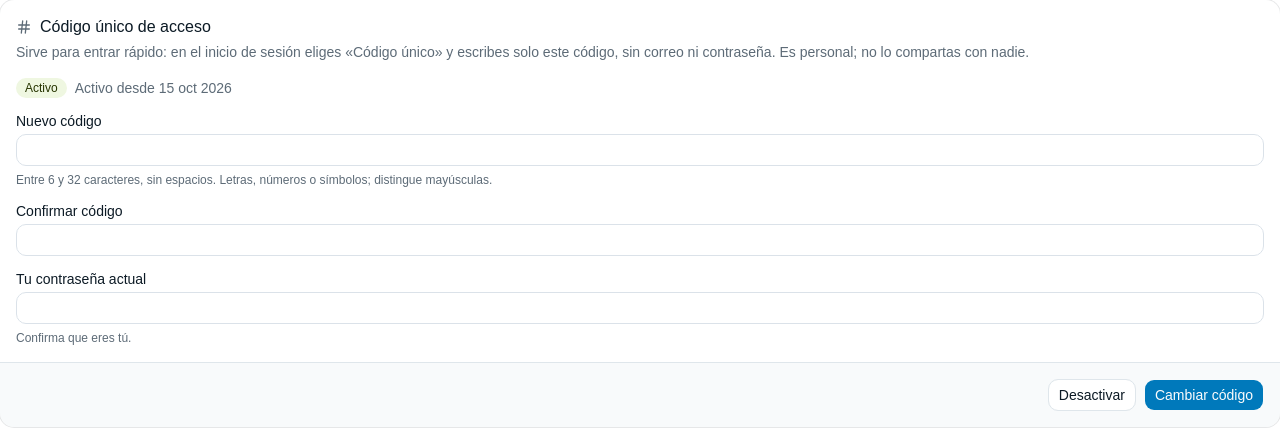
Test: CodigoAccesoForm › 422 CONTRASENA_INCORRECTA: error en la contraseña y la sesión sigue abierta
Expected: the icon "Activo" is shown, [16,78,67,98]
Type "NuevoCodigo" into the password field labelled "Nuevo código" at (640,150), box [16,134,1264,166]
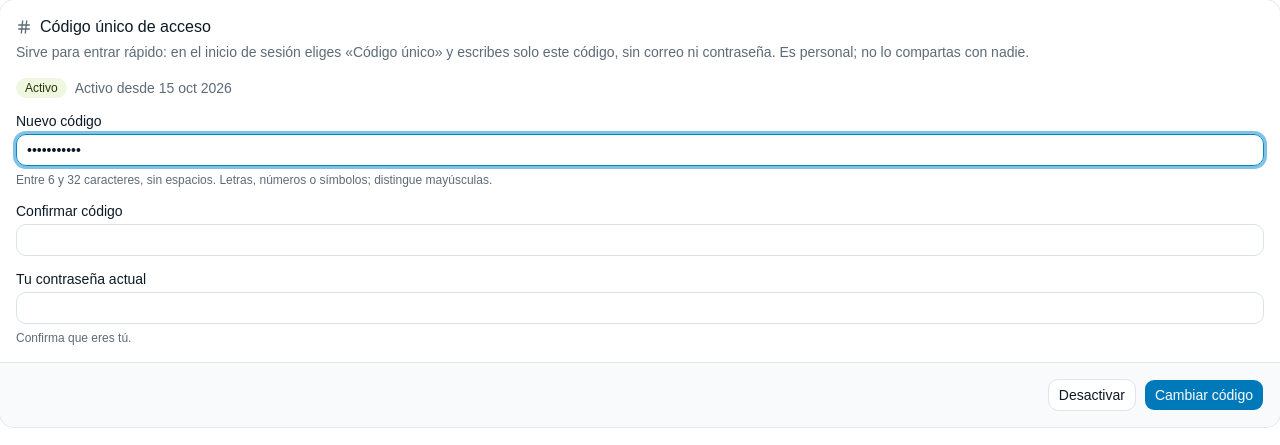
Type "NuevoCodigo" into the password field labelled "Confirmar código" at (640,240), box [16,224,1264,256]
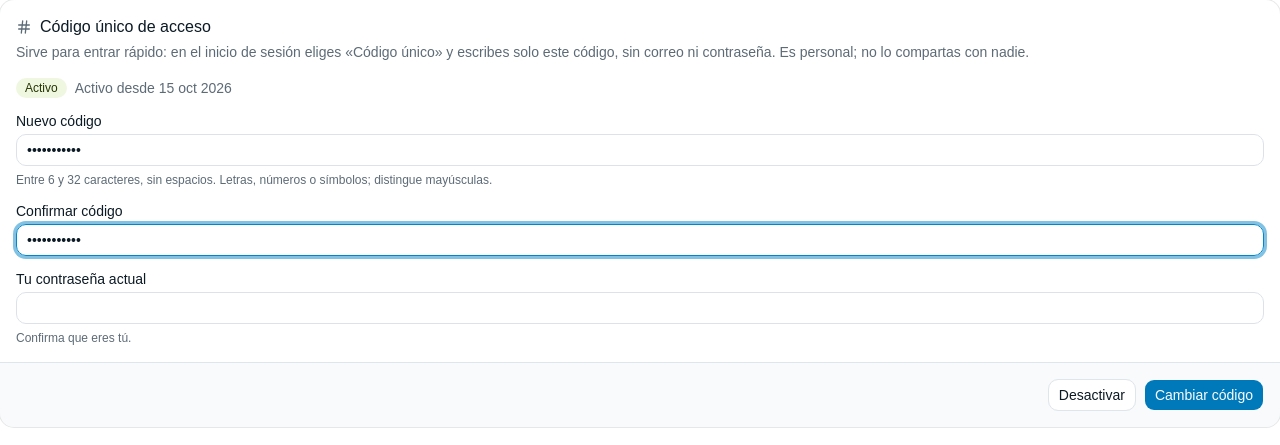
Type "equivocada" into the password field labelled "Tu contraseña actual" at (640,308), box [16,292,1264,324]
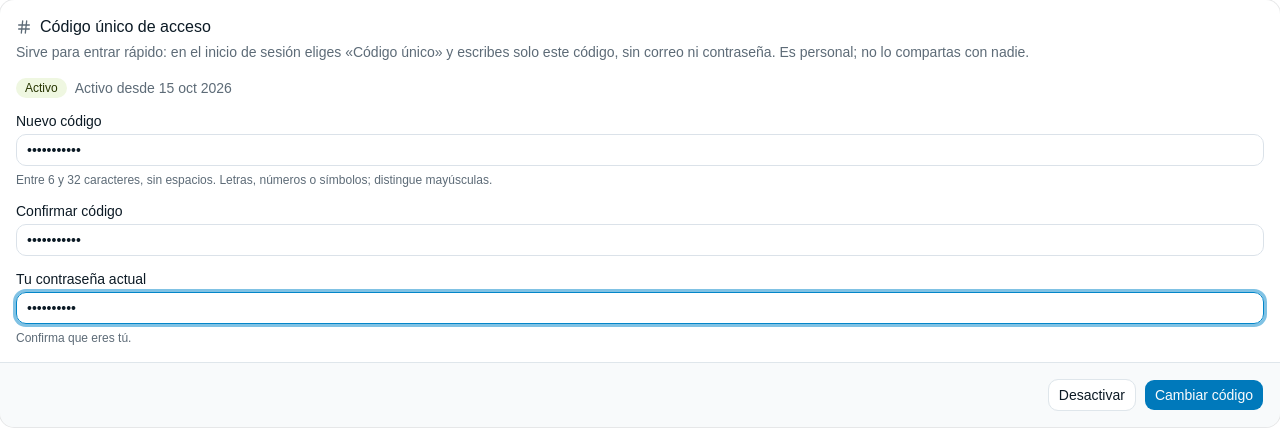
Click the button "Cambiar código" at (1204,395), box [1144,379,1264,411]
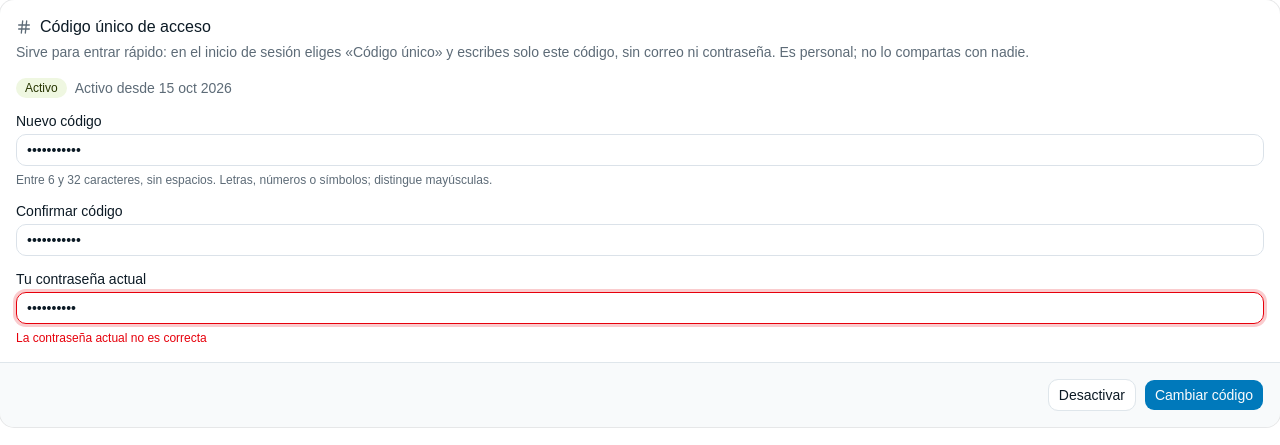
Expected: the text "La contraseña actual no es correcta" is shown, [16,331,207,345]
